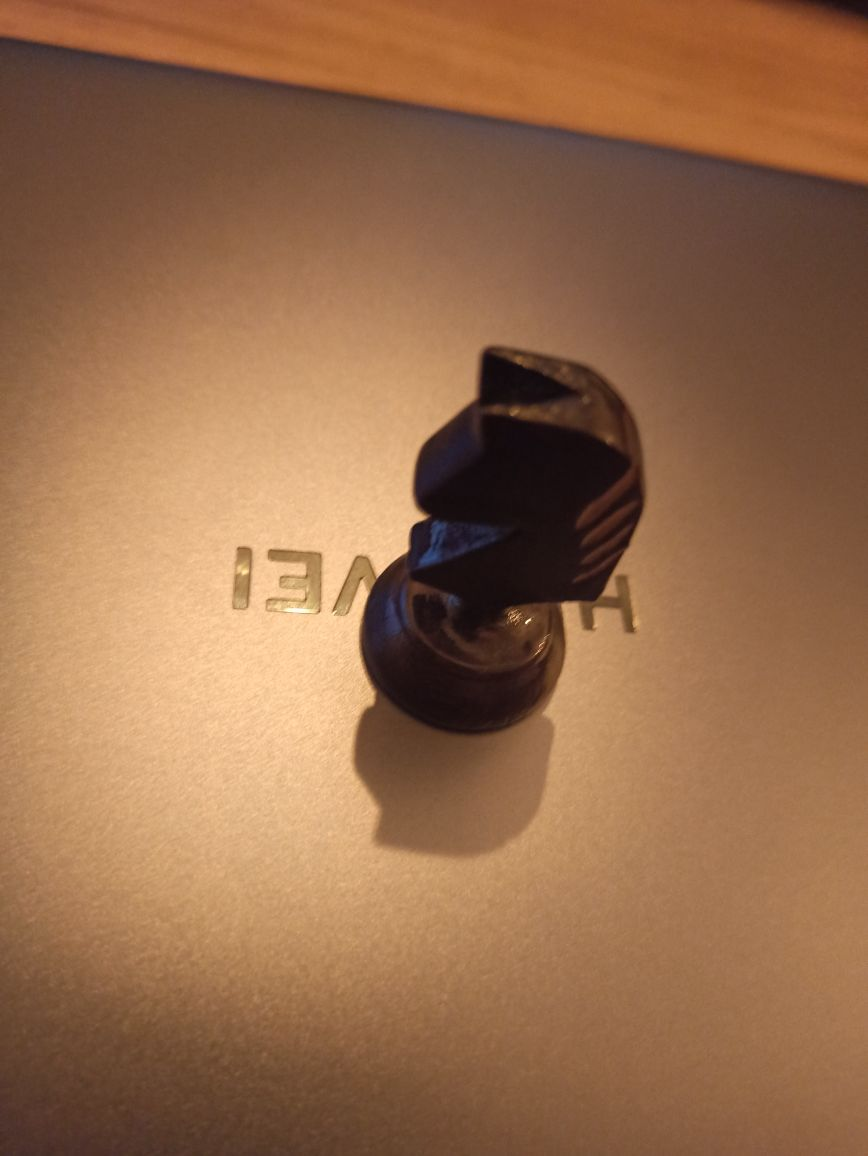bknight: (356, 334, 650, 742)
